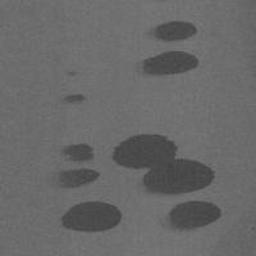Oil spot: (113, 133, 216, 195), (60, 201, 123, 233), (169, 200, 221, 232), (141, 51, 198, 76), (154, 20, 197, 42), (56, 168, 100, 189), (60, 143, 95, 161), (64, 93, 86, 104)
